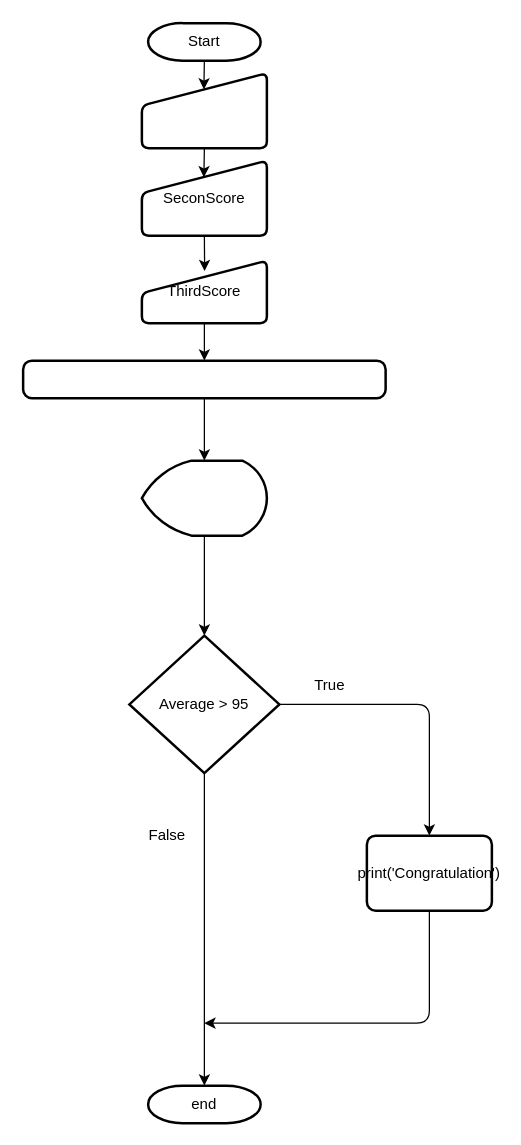
Some shapes in this 521 by 1145 pixel diagram are drawn without their labels. The shapes that lost their labels are listed below. From the top down, each one's centre as x and y in pixels, then its label:
At pixel 204 110: "FirstScore".
At pixel 203 379: "Average = FirstScore+SeconScore+ThirdScore/3".
At pixel 204 497: "Average".
